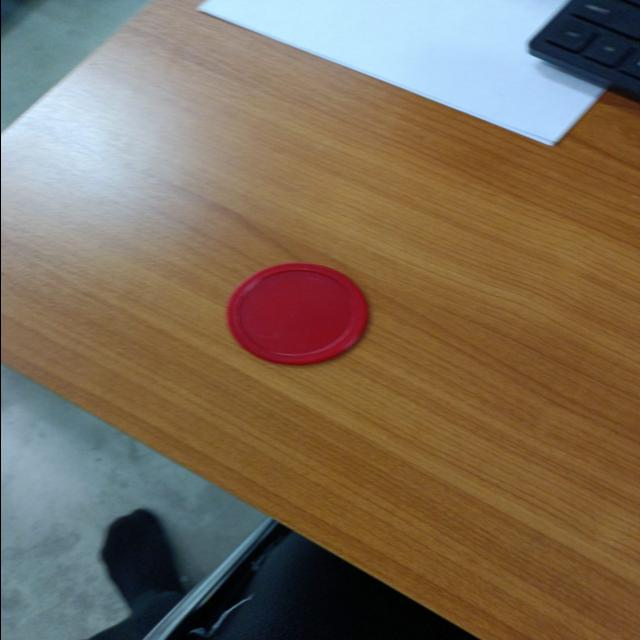chip: (225, 260, 371, 368)
